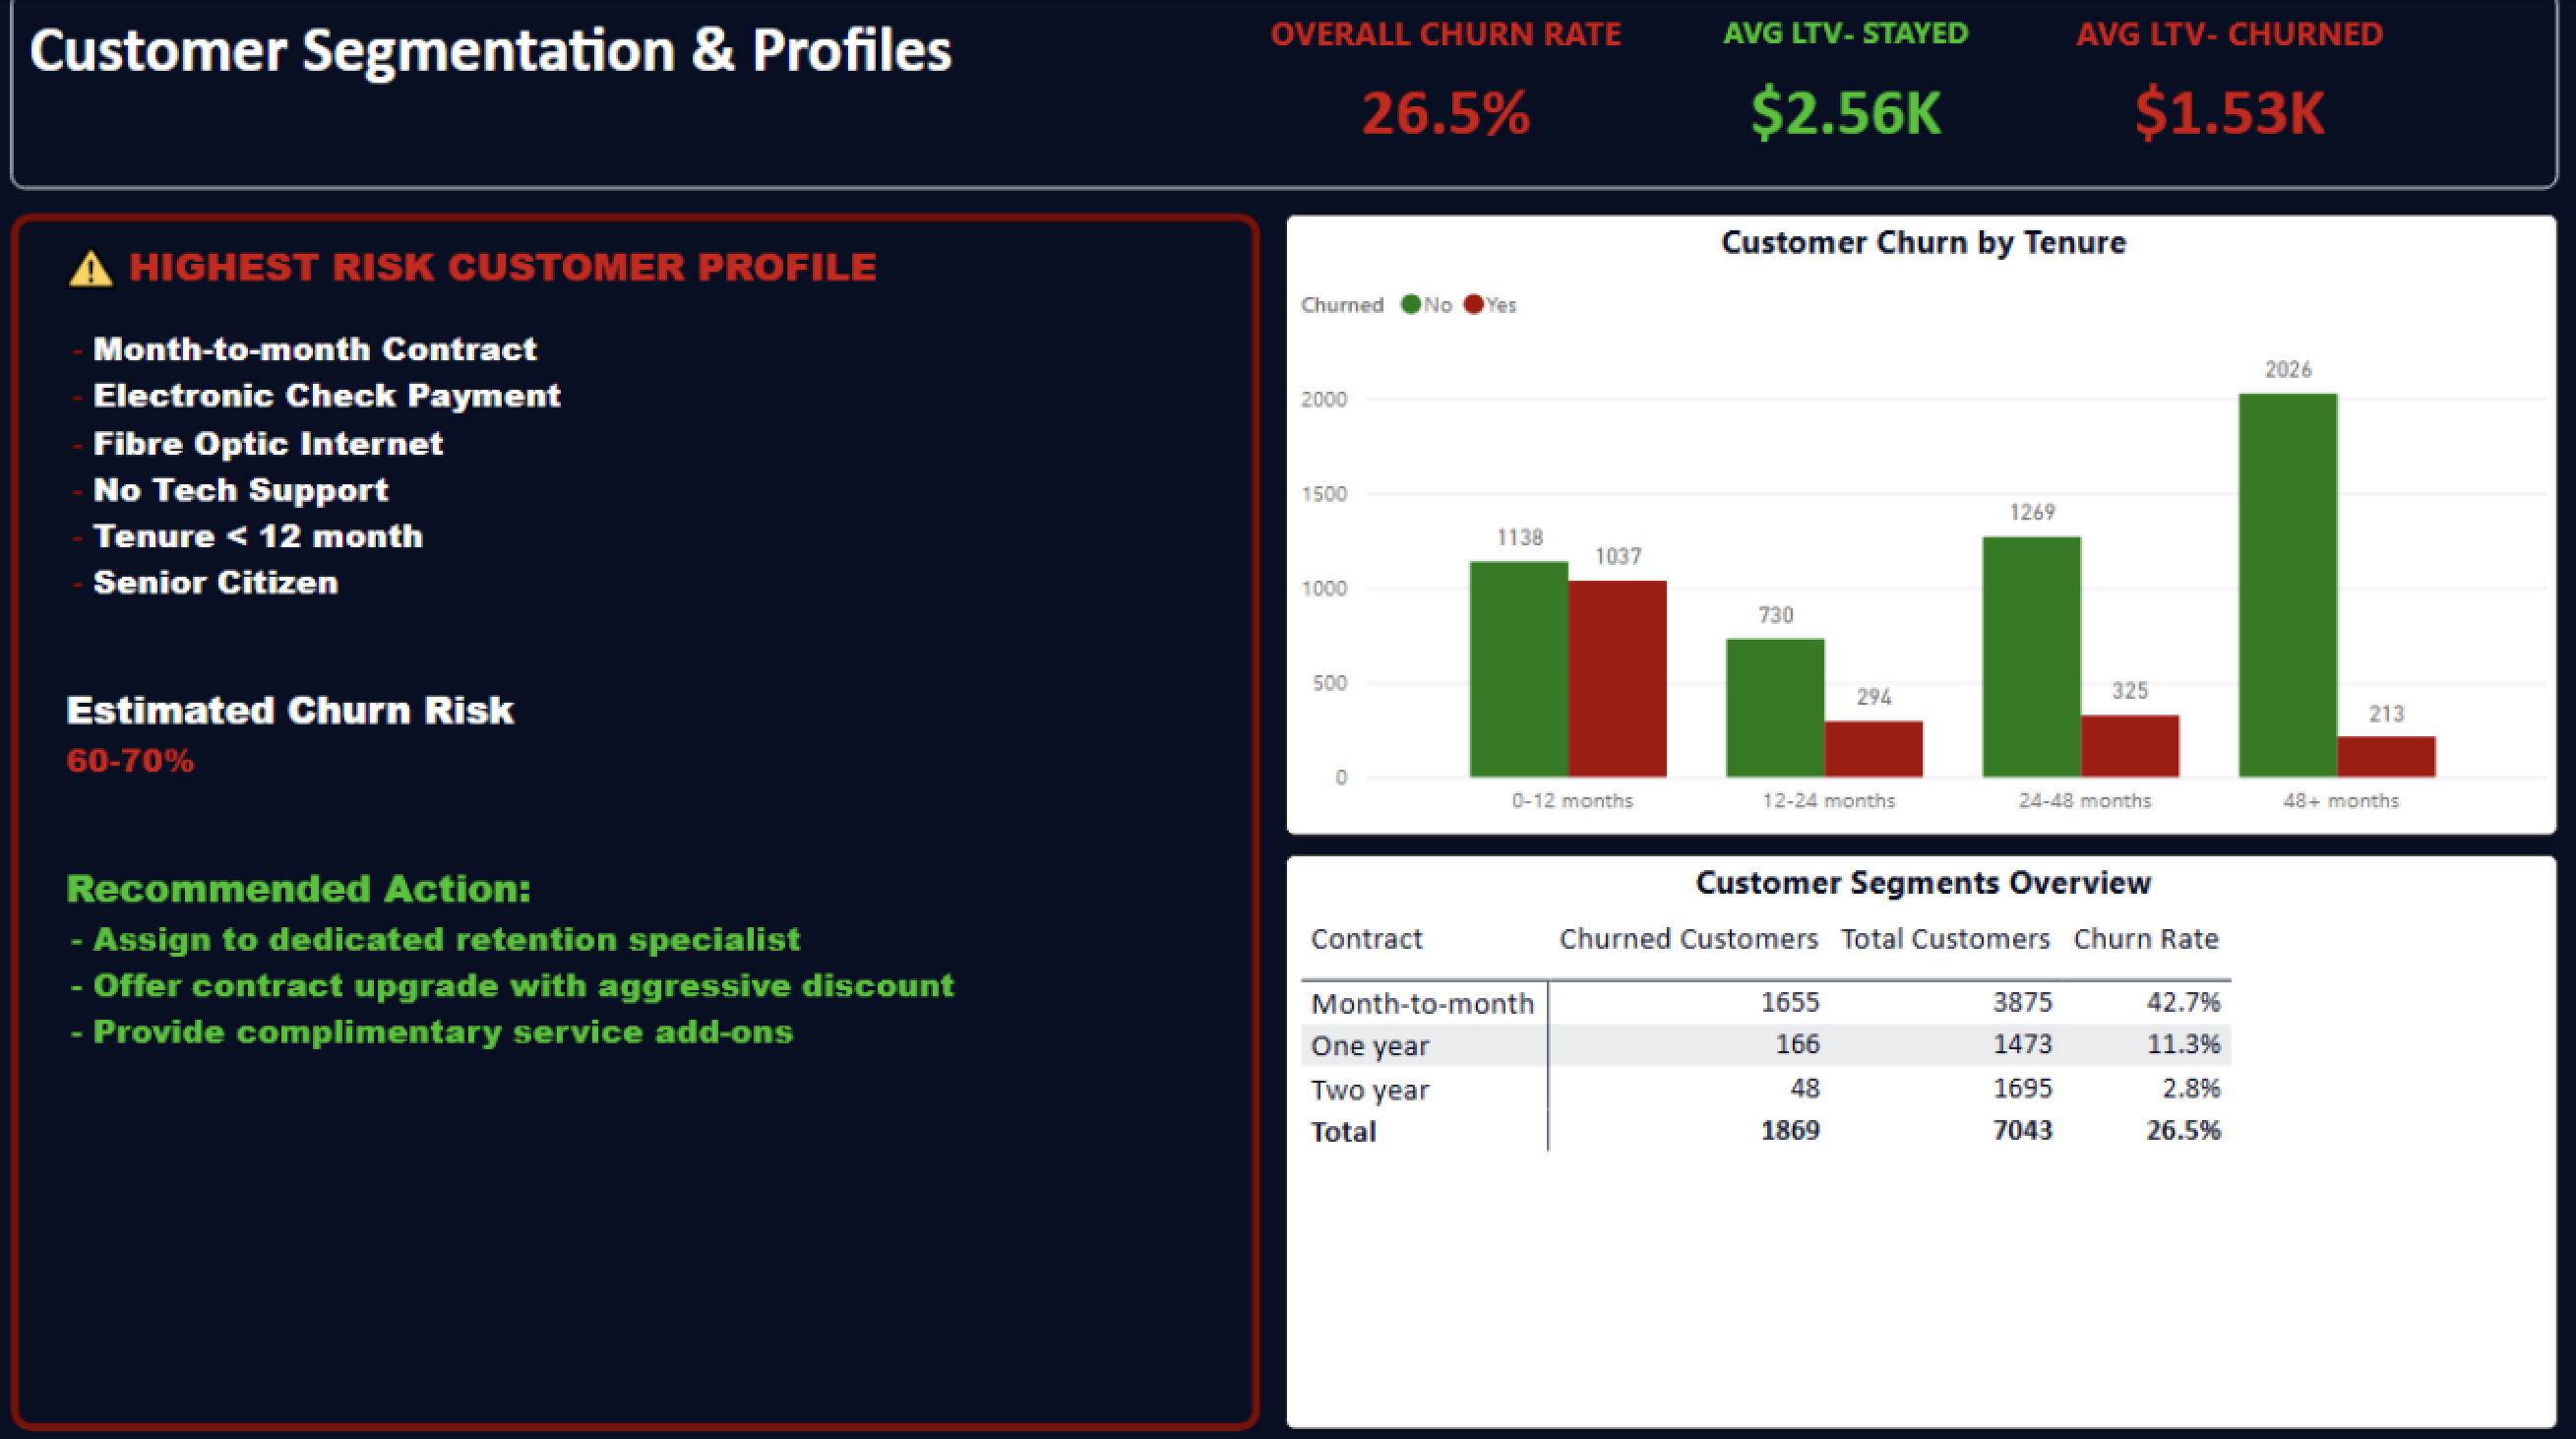

Layout of this report page (visuals, bound fields, positions):
{"tool":"powerbi","page":{"name":"Customer Segmentation","canvas":[1280,720],"ordinal":2},"visuals":[{"type":"textbox","box":[10.4,0,1260.3,97.6],"z":0},{"type":"textbox","box":[10.4,110,617.7,602.1],"z":1000},{"type":"pivotTable","title":"Customer Segments Overview","fields":{"Rows":["Customer_Churn_Analyzed.Contract","Customer_Churn_Analyzed.PaymentMethod"],"Values":["Customer_Churn_Analyzed.Churned Customers","Customer_Churn_Analyzed.Total Customers","Customer_Churn_Analyzed.Churn Rate"]},"box":[640.5,426.7,630.1,285.5],"z":2000},{"type":"clusteredColumnChart","title":"Customer Churn by Tenure","fields":{"Category":["Customer_Churn_Analyzed.tenure_group"],"Y":["Customer_Churn_Analyzed.Total Customers"],"Series":["Customer_Churn_Analyzed.Churn"]},"box":[640.5,110,630.1,308.3],"z":3000},{"type":"card","title":"AVG LTV- STAYED","fields":{"Values":["Customer_Churn_Analyzed.Avg LifetimeValue Stayed"]},"box":[836.7,10.4,163,76.8],"z":4000},{"type":"card","title":"AVG LTV- CHURNED","fields":{"Values":["Customer_Churn_Analyzed.Avg LifetimeValue Churned"]},"box":[1021.5,10.4,172.3,76.8],"z":5000},{"type":"image","box":[31.1,110,38.4,54],"z":7000},{"type":"card","title":"OVERALL CHURN RATE","fields":{"Values":["Customer_Churn_Analyzed.Churn Rate"]},"box":[628.1,10.4,183.7,76.8],"z":8000}]}

Visuals, with their boxes in screenshot pixels (x1, y1, x2, y2), scaled from the page's 1280x720 canvas onto the 2576x1439 screenshot:
textbox: region(21, 0, 2557, 195)
textbox: region(21, 219, 1264, 1423)
"Customer Segments Overview" pivotTable: region(1289, 852, 2557, 1423)
"Customer Churn by Tenure" clusteredColumnChart: region(1289, 219, 2557, 836)
"AVG LTV- STAYED" card: region(1684, 21, 2012, 174)
"AVG LTV- CHURNED" card: region(2055, 21, 2403, 174)
image: region(63, 219, 140, 328)
"OVERALL CHURN RATE" card: region(1264, 21, 1633, 174)
